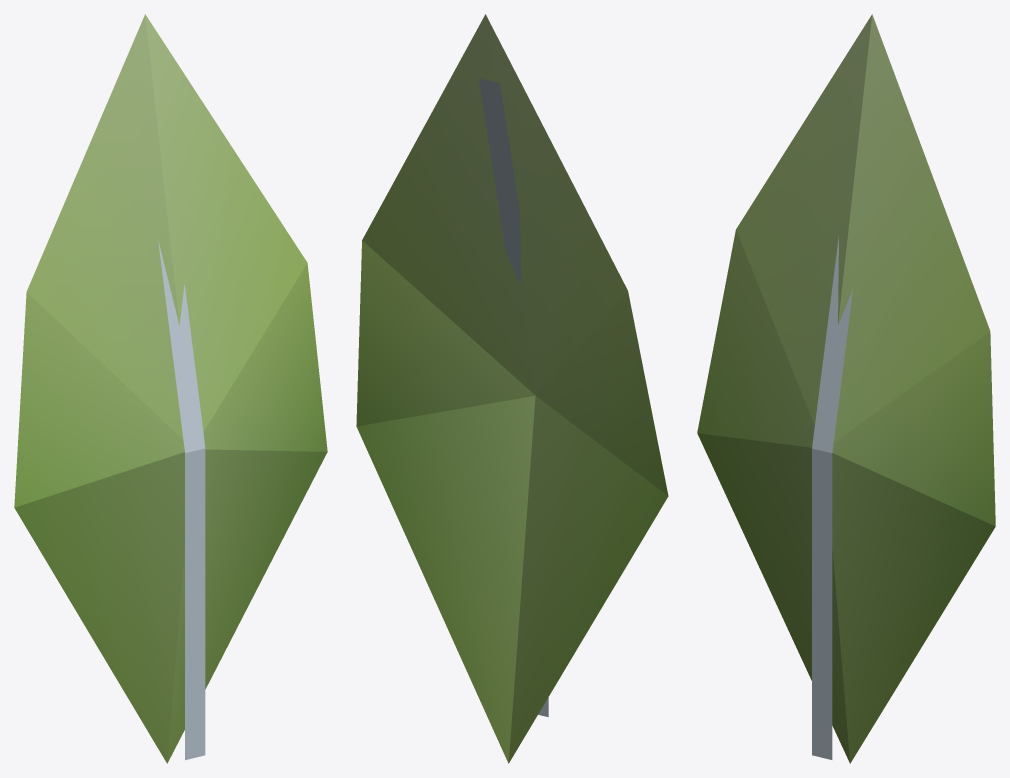
File: 2012_DendroField_Leaf.fbx
3 renders of one model, left to right at view 1: azimuth 30°, elevation 25°; view 2: azimuth 150°, elevation 25°; view 3: azimuth 330°, elevation 25°, orthographic. The views are drawn at different scales.
Parts seen in each view (by area): view 1: PART_DriftingLeafBlade, PART_LeafMidrib; view 2: PART_DriftingLeafBlade, PART_LeafMidrib; view 3: PART_DriftingLeafBlade, PART_LeafMidrib.
Boxes of the visible parts, left/top/right/bottom form: PART_DriftingLeafBlade: left=14, top=14, right=327, bottom=763; PART_LeafMidrib: left=158, top=239, right=205, bottom=760; PART_DriftingLeafBlade: left=356, top=14, right=668, bottom=763; PART_LeafMidrib: left=479, top=78, right=548, bottom=717; PART_DriftingLeafBlade: left=697, top=14, right=995, bottom=763; PART_LeafMidrib: left=812, top=236, right=853, bottom=759.
Bounding box in the file's own units: 24 × 55 × 6.8.
